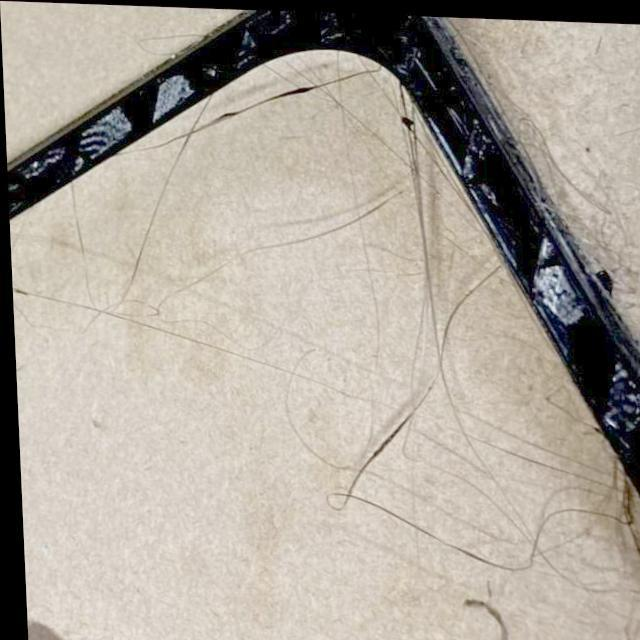stringing: (319, 257, 504, 522), (130, 55, 389, 157), (395, 88, 440, 332)
